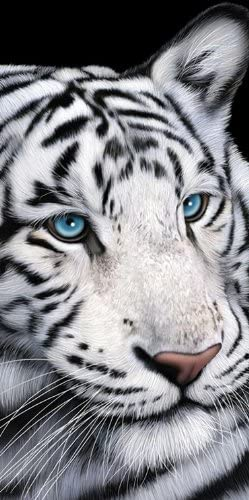Tigrew: (1, 28, 243, 467)
